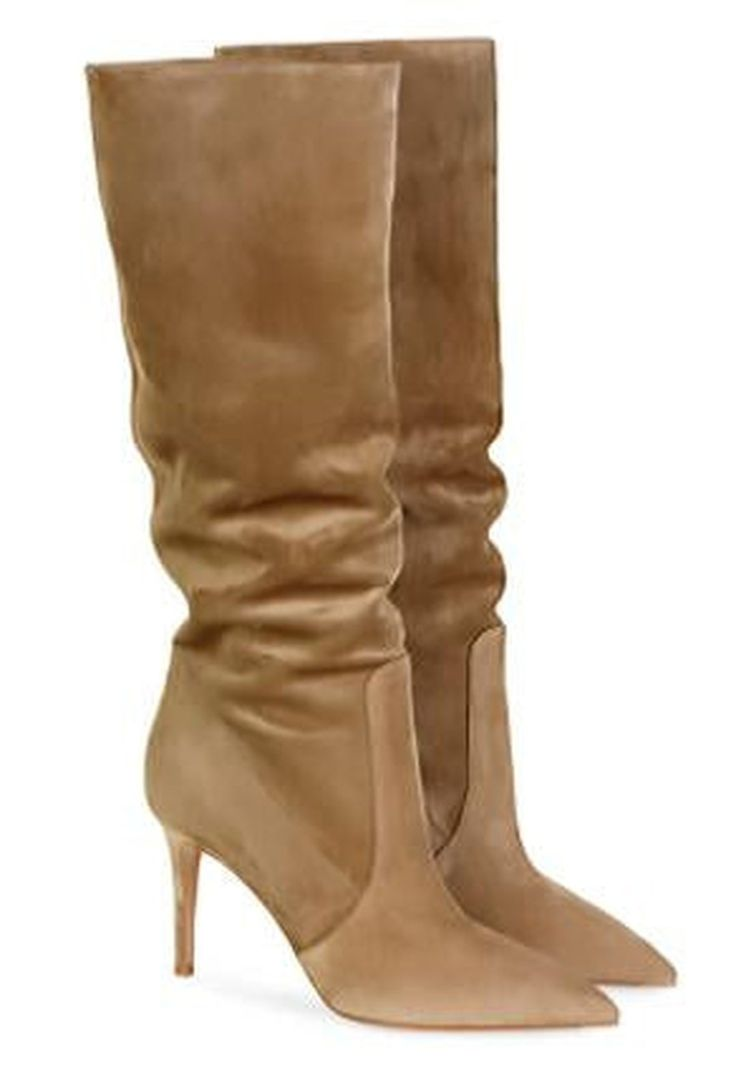gamuza: (83, 38, 677, 1030)
